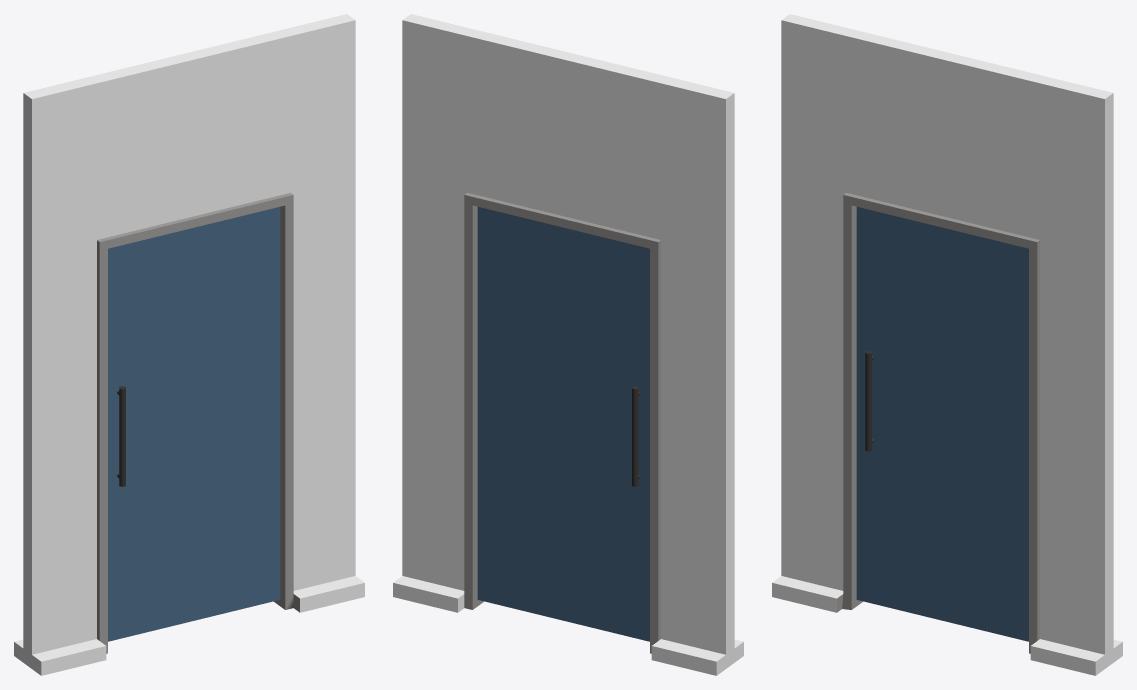
Rendered from 02_wall(door).FBX.
3 views of the same model, side by side, from view 1: azimuth 30°, elevation 25°; view 2: azimuth 150°, elevation 25°; view 3: azimuth 330°, elevation 25° (orthographic).
Parts seen in each view (by area): view 1: 02_wall, 02_wall(door); view 2: 02_wall, 02_wall(door); view 3: 02_wall, 02_wall(door).
Part boxes in pixels (left/top/right/bottom): 02_wall: left=14, top=14, right=364, bottom=675; 02_wall(door): left=108, top=207, right=280, bottom=641; 02_wall: left=393, top=14, right=743, bottom=675; 02_wall(door): left=477, top=207, right=649, bottom=641; 02_wall: left=772, top=14, right=1122, bottom=675; 02_wall(door): left=856, top=207, right=1028, bottom=641.
Bounding box in the file's own units: 256 × 432 × 37.56.
